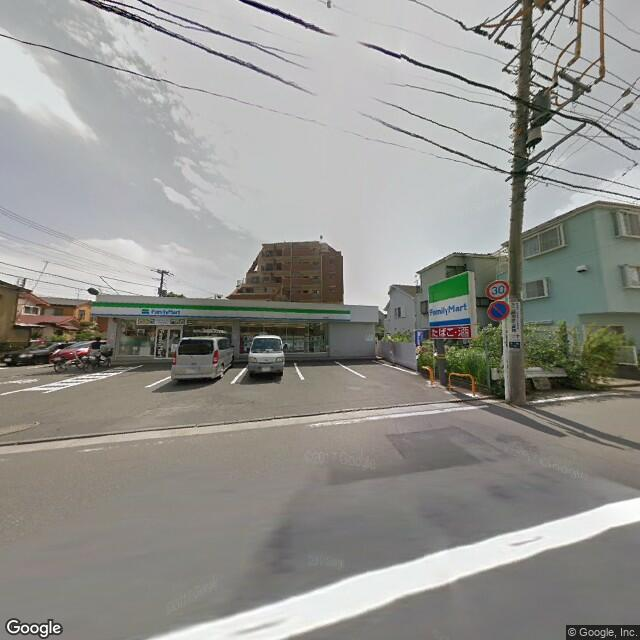family_mart: (88, 298, 353, 324), (425, 270, 471, 331), (143, 303, 185, 317)
